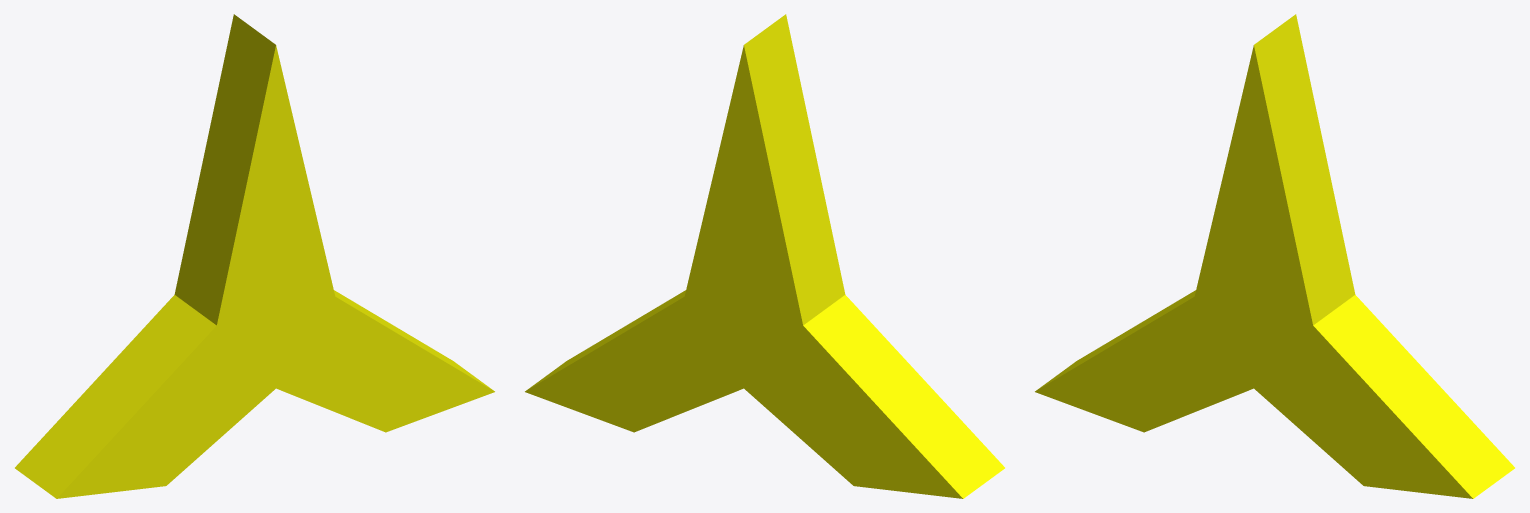
The model's file is _arrow_c_12.glb.
The picture shows the model from 3 angles, left to right: view 1: azimuth 30°, elevation 25°; view 2: azimuth 150°, elevation 25°; view 3: azimuth 330°, elevation 25°; orthographic projection.
Parts seen in each view (by area): view 1: arrow_c_12; view 2: arrow_c_12; view 3: arrow_c_12.
Boxes of the visible parts, left/top/right/bottom form: arrow_c_12: left=15, top=14, right=494, bottom=498; arrow_c_12: left=525, top=14, right=1004, bottom=498; arrow_c_12: left=1035, top=14, right=1514, bottom=498.
Bounding box in the file's own units: 0.11 × 0.0992 × 0.0183.
Materials: 1 (1 with a texture image).
